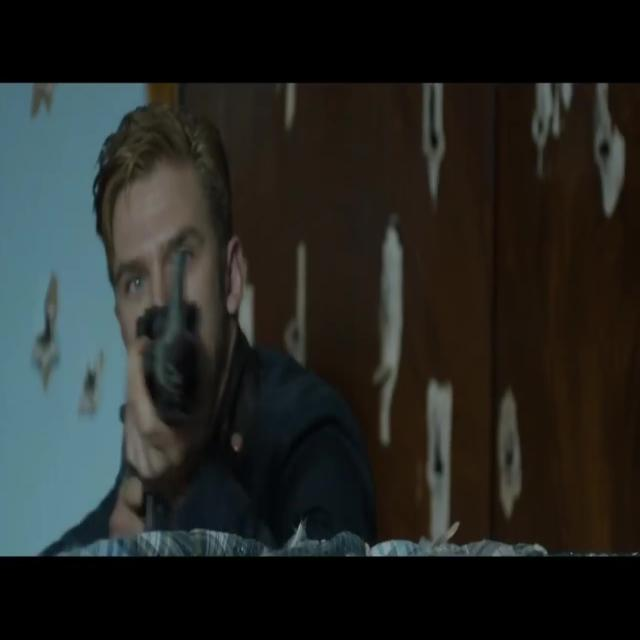Weapon: (54, 215, 265, 451)
